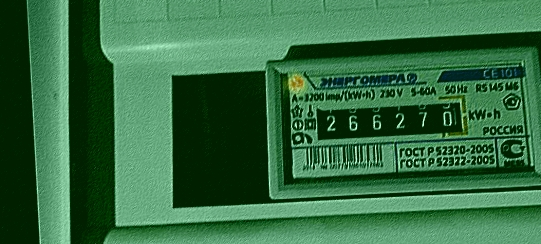0: (440, 106, 452, 127)
2: (323, 110, 338, 132), (393, 109, 406, 129)
6: (346, 111, 359, 132), (370, 110, 383, 130)
7: (416, 108, 429, 127)
screen: (302, 86, 478, 151)
